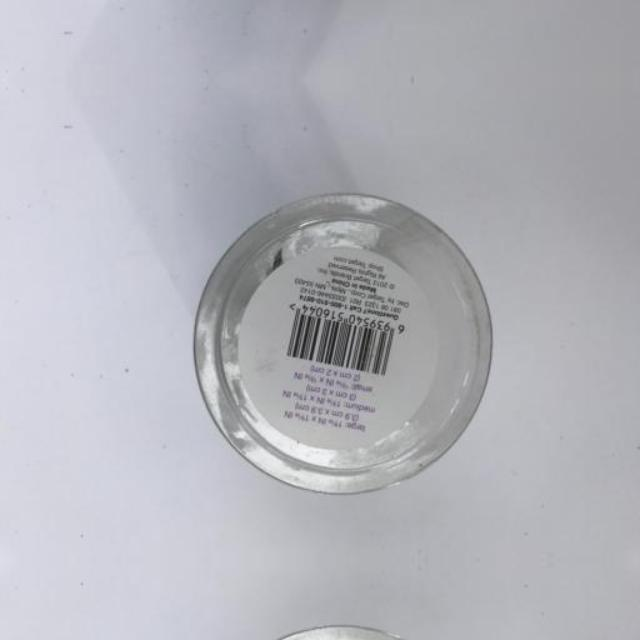Plastic: (150, 165, 486, 511), (150, 609, 485, 640)
